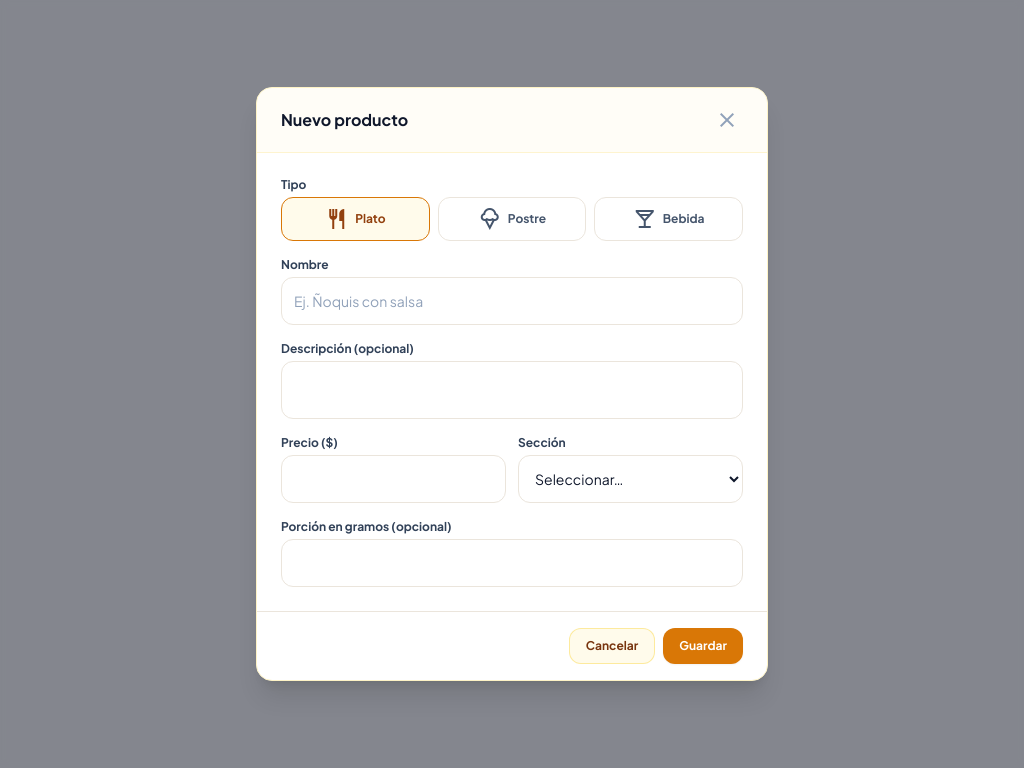
Test: ProductoForm › muestra cada error debajo de su campo y no envía (CA3)
The width and height of the screenshot is (1024, 768).
Type "ab" into the field labelled "Nombre". click: (512, 301)
box: [281,277,743,325]
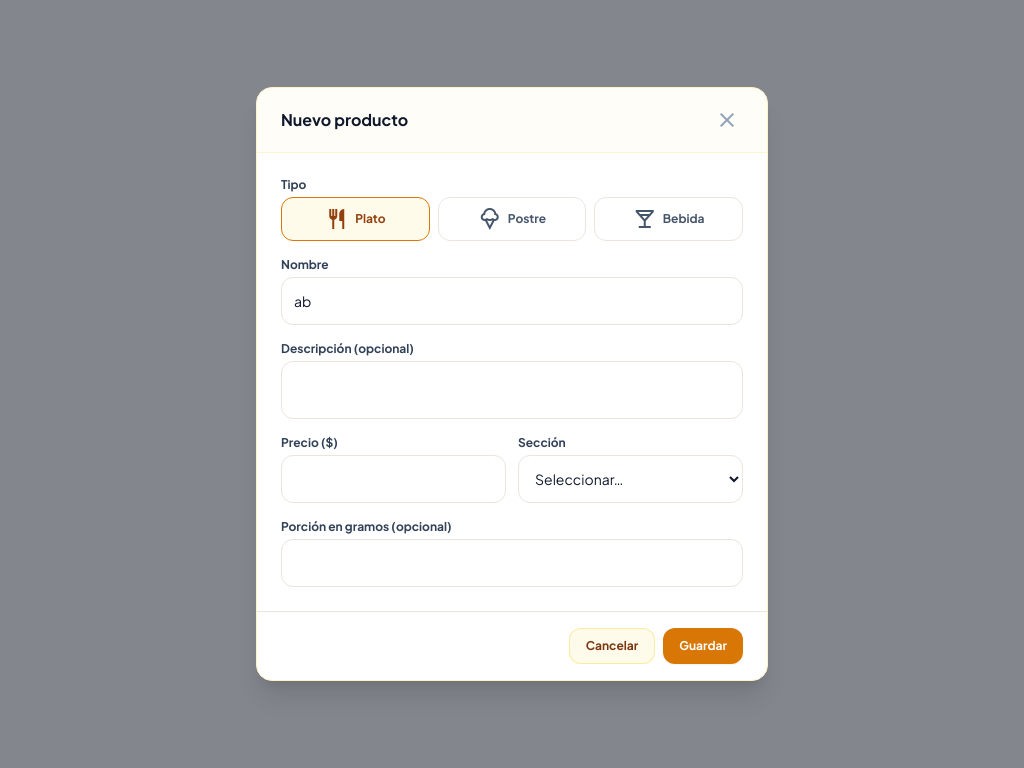
Type "0" into the number field labelled "Porción en gramos (opcional)". click: (512, 563)
box: [281,539,743,587]
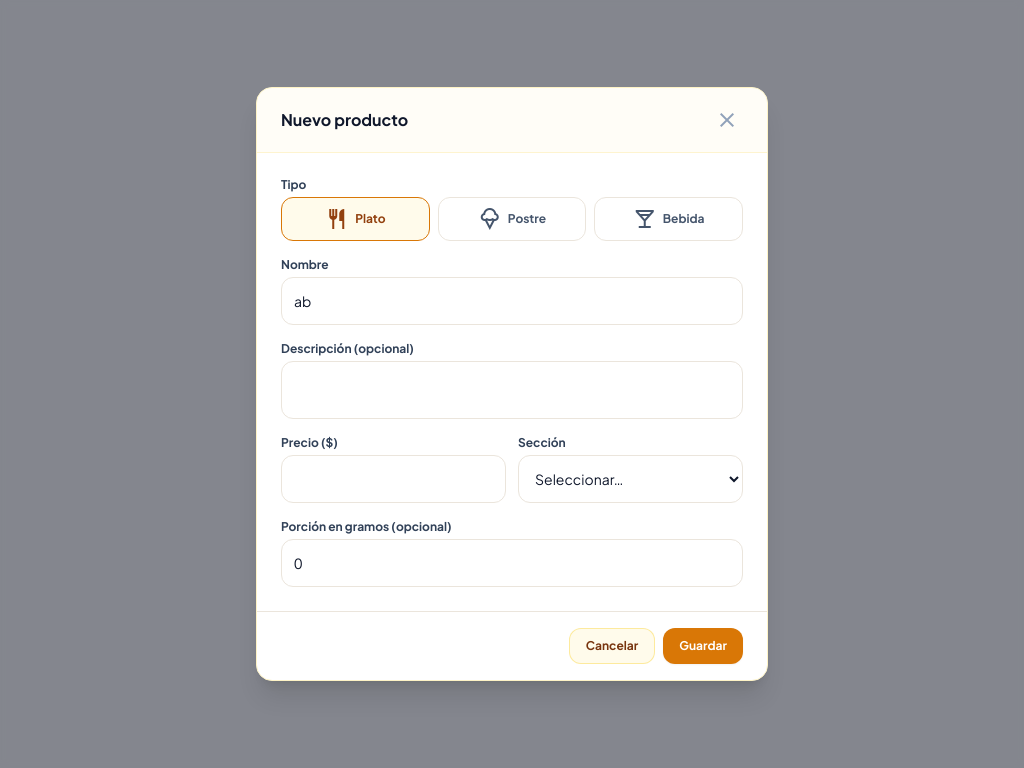
Click the button "Guardar". click: (703, 646)
box: [663,628,743,664]
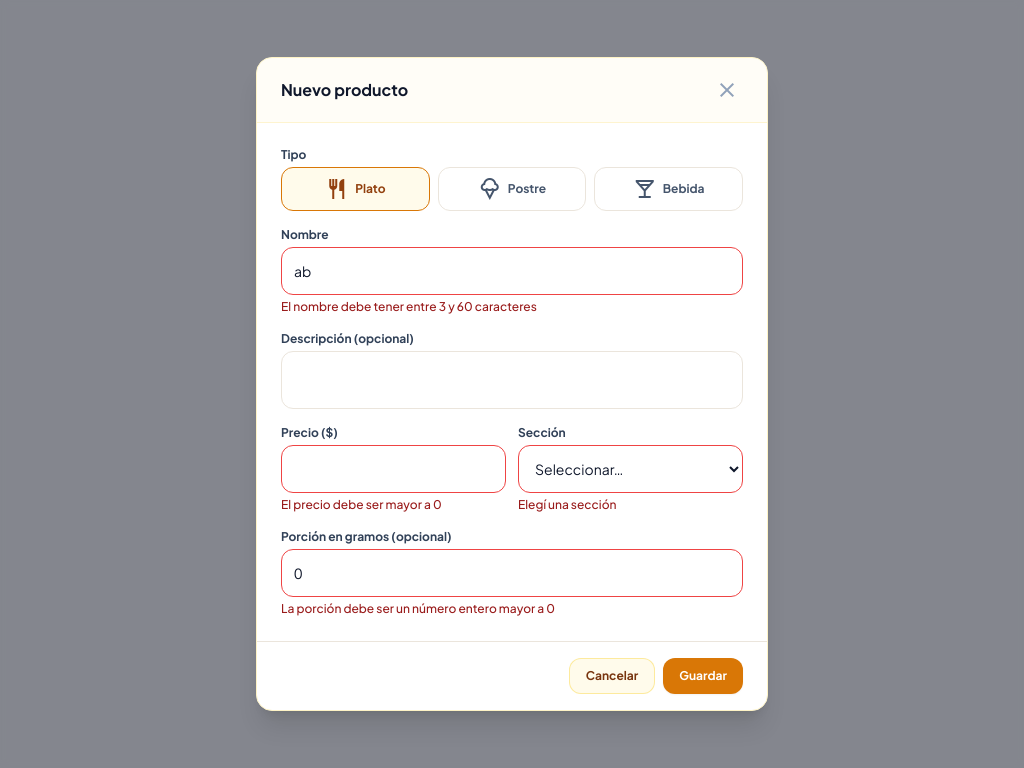
Check: the text "El nombre debe tener entre 3 y 60 caracteres" is shown, box [281,299,537,314]
Check: the text "El precio debe ser mayor a 0" is shown, box [281,497,442,512]
Check: the text "Elegí una sección" is shown, box [518,497,616,512]
